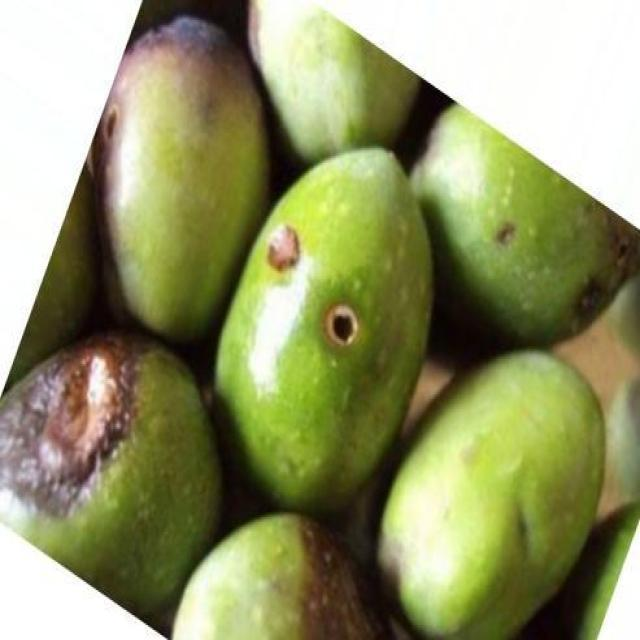Anthracnose: (217, 148, 431, 509), (0, 334, 215, 605), (92, 16, 268, 338), (421, 105, 638, 342)
